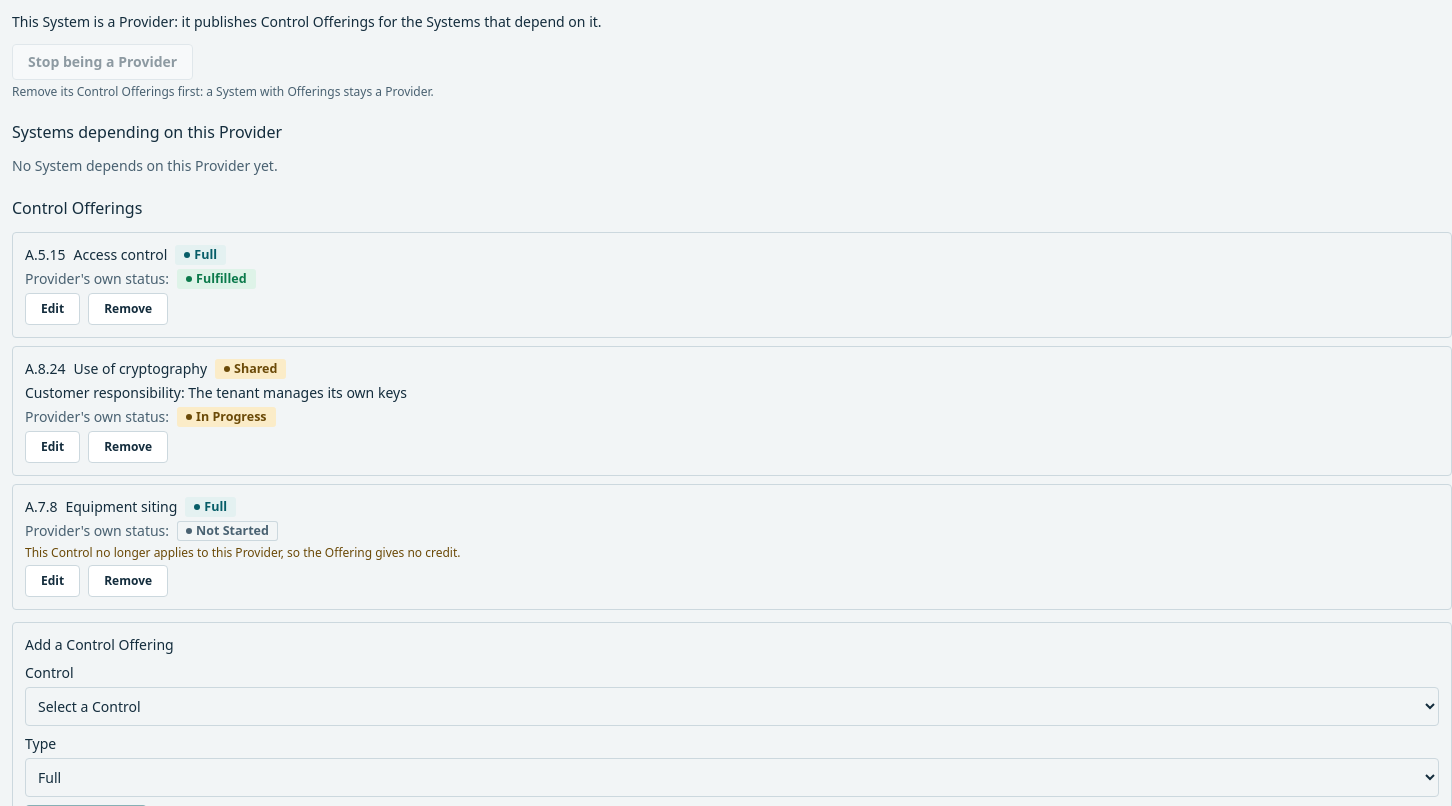
Test case: SystemProvider (#123) › editing an Offering › can be cancelled without a request
Click the button with aria-label "Edit Offering A.8.24": (53, 447) [25,431,80,463]
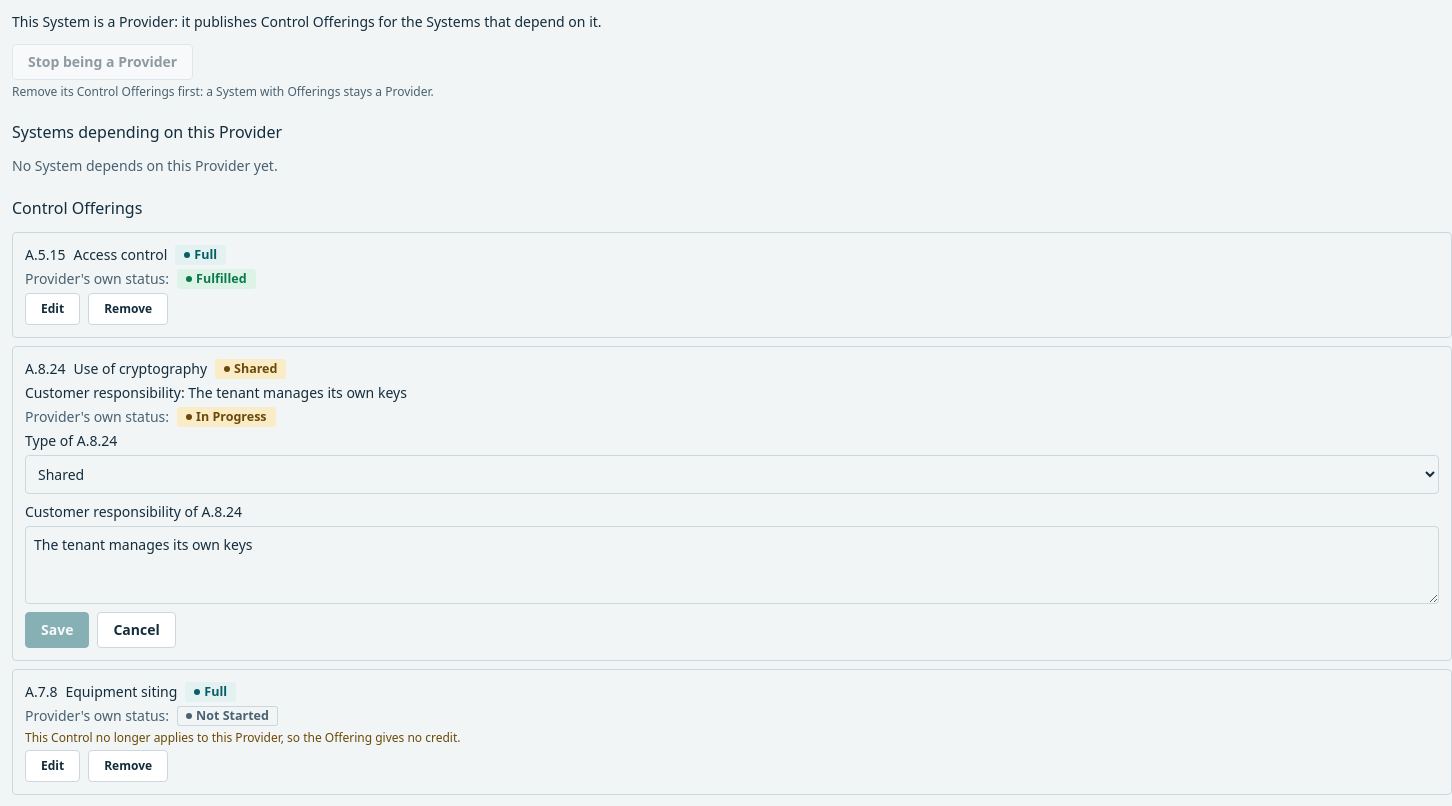
Click the button "Cancel": (137, 630) [97,612,176,648]
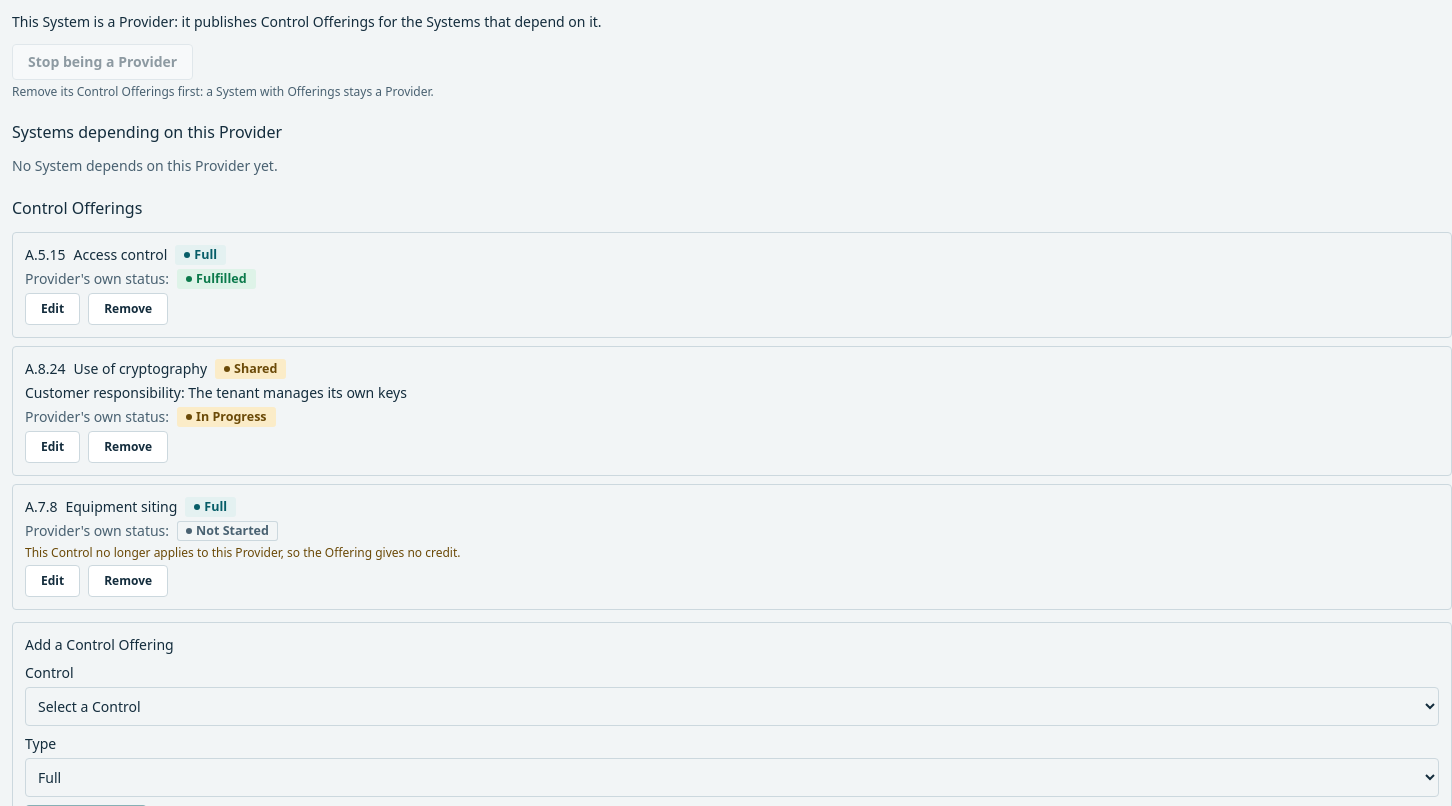
Expected: the label labelled "Customer responsibility of A.8.24" is gone
